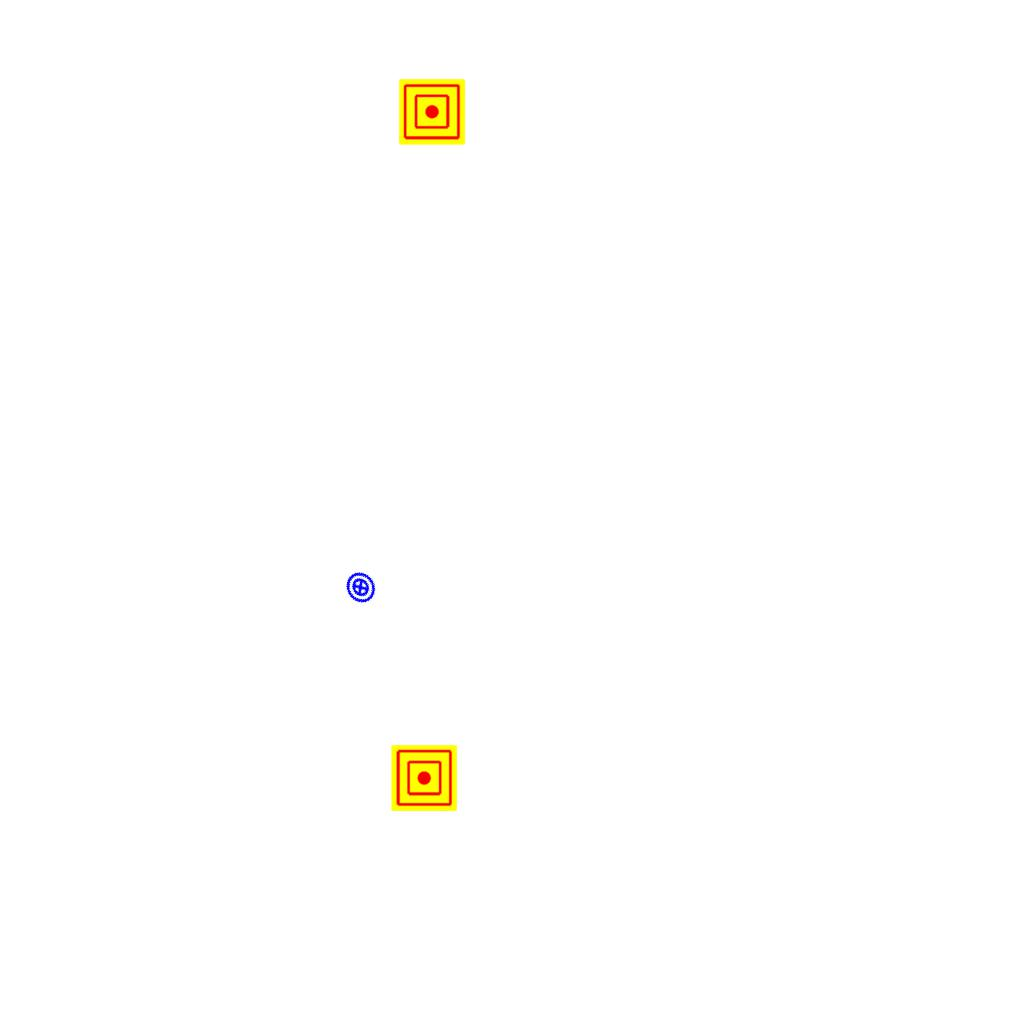NAM-Nichtautomatischer_Melder: (391, 745, 457, 811), (399, 79, 465, 145)
Taster_beleuchtet: (337, 564, 384, 611)
